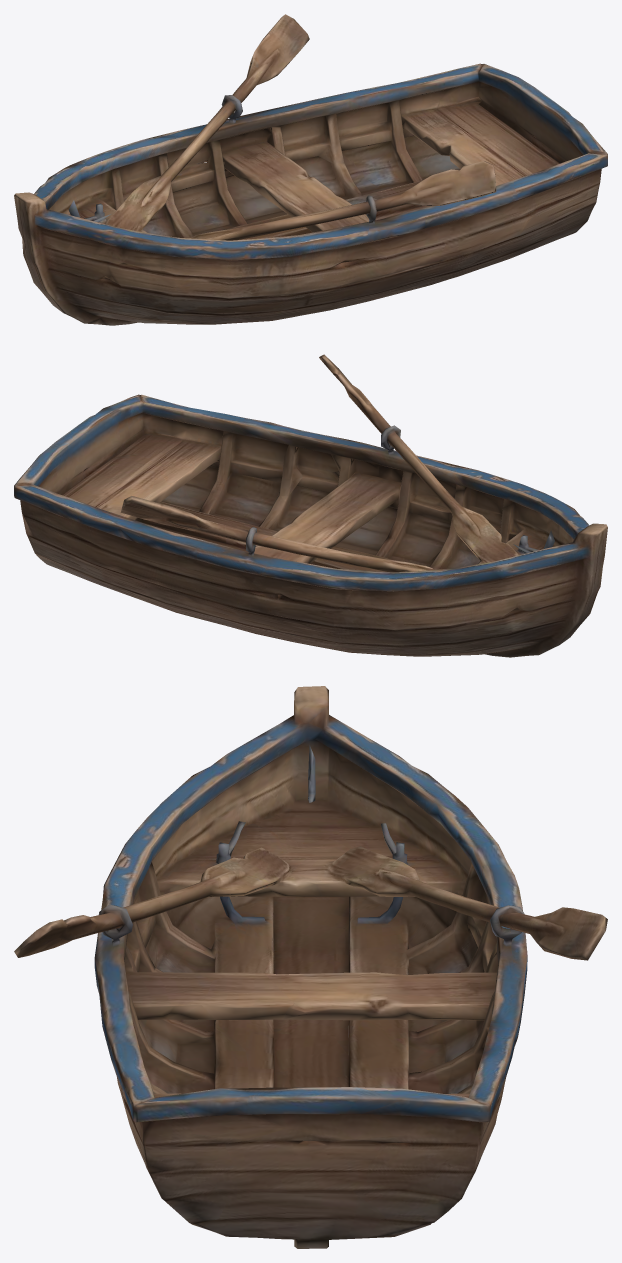
The model's file is boat_dinghy.glb.
The picture shows the model from 3 angles, top to bottom: view 1: azimuth 30°, elevation 25°; view 2: azimuth 150°, elevation 25°; view 3: azimuth 270°, elevation 25°; orthographic projection. The views are drawn at different scales.
Visible parts, largest first — view 1: tripo_node_f58631eb-fd75-4957-ab85-d31e6c28eeb1; view 2: tripo_node_f58631eb-fd75-4957-ab85-d31e6c28eeb1; view 3: tripo_node_f58631eb-fd75-4957-ab85-d31e6c28eeb1.
Part boxes in pixels (bbox=[...]): tripo_node_f58631eb-fd75-4957-ab85-d31e6c28eeb1: bbox=[14, 14, 607, 325]; tripo_node_f58631eb-fd75-4957-ab85-d31e6c28eeb1: bbox=[14, 354, 607, 657]; tripo_node_f58631eb-fd75-4957-ab85-d31e6c28eeb1: bbox=[14, 686, 607, 1248].
Size of the model in its own units: 1 by 0.3085 by 0.6827.
Materials: 1 (1 with a texture image).
